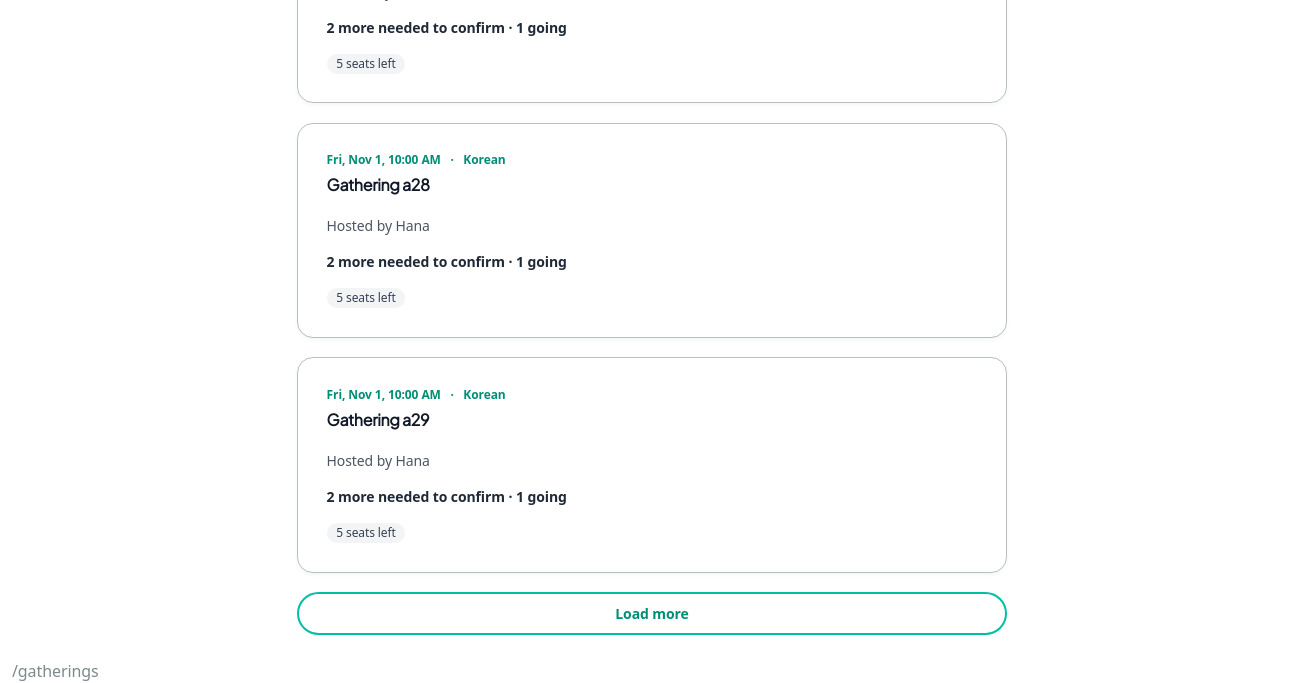
Scenario: loads the next page while the last one came back full, and appends it
(page scrolled)
Click the button with test id "gatherings-load-more": (652, 614) [297,592,1007,635]
(page scrolled)
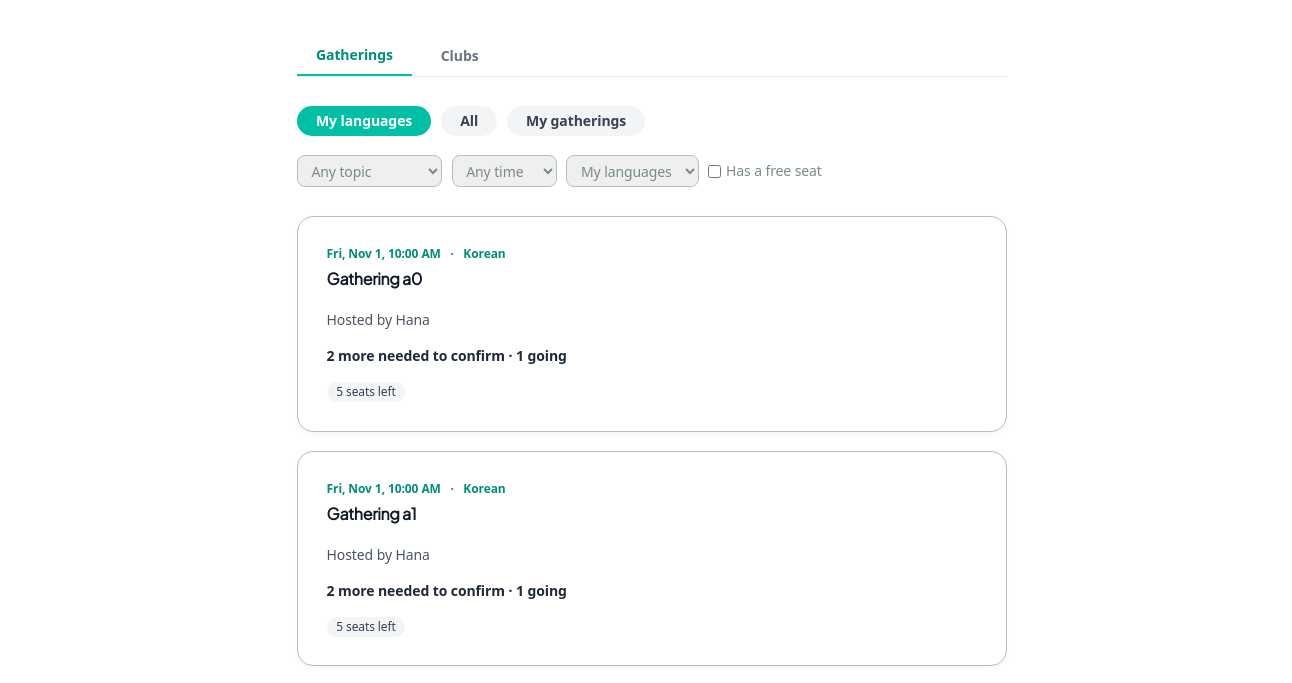
Expected: the link with test id "gathering-card-a0" is shown, [297,216,1007,432]
Expected: the button with test id "gatherings-load-more" is gone
